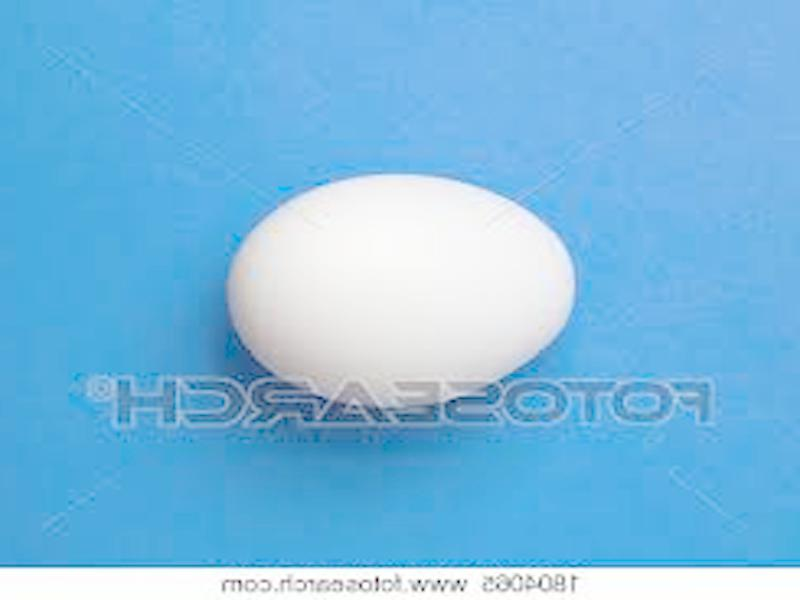Eggs: (228, 175, 574, 414)
